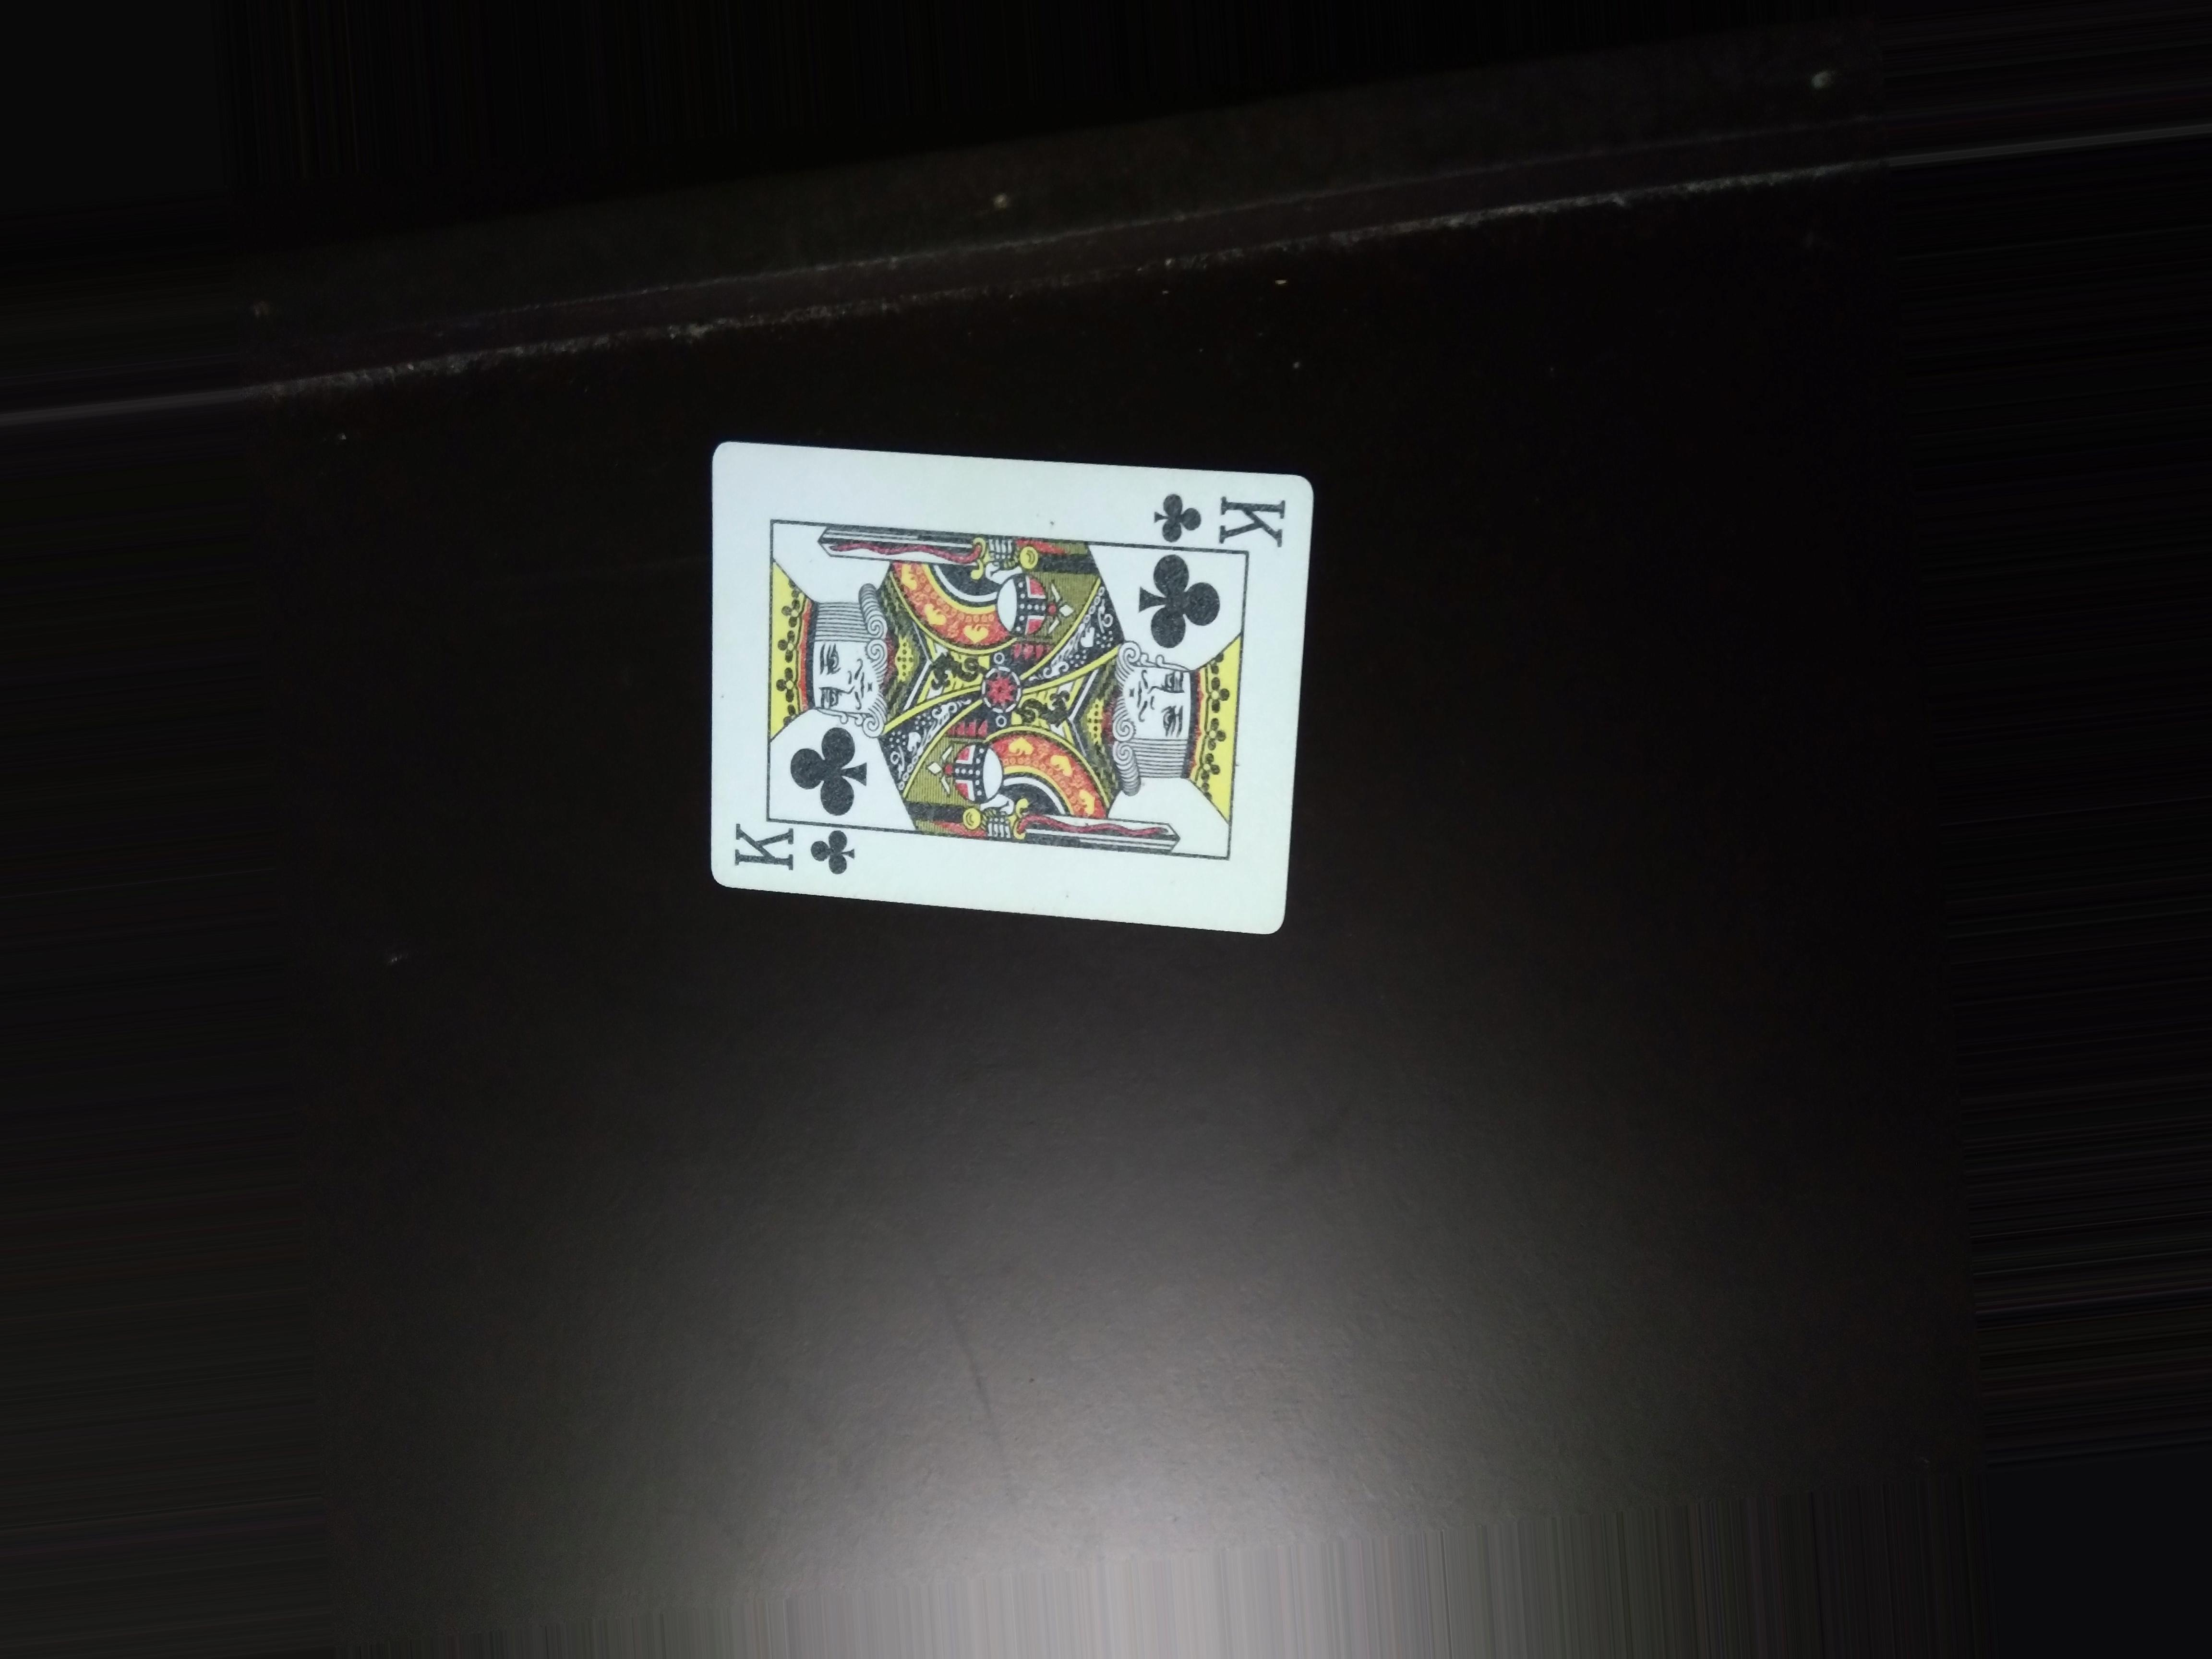KC: (1150, 472, 1320, 568)
